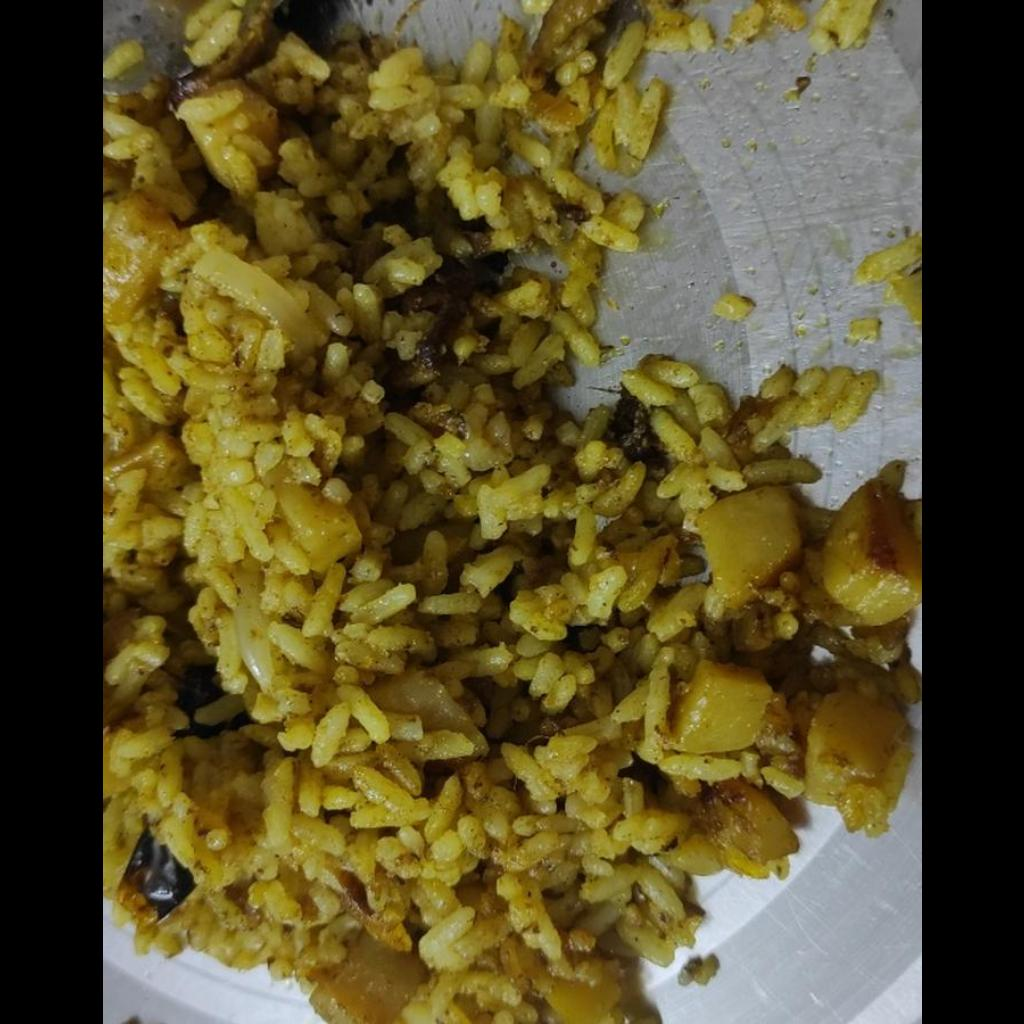khichuri: (102, 1, 920, 1023)
